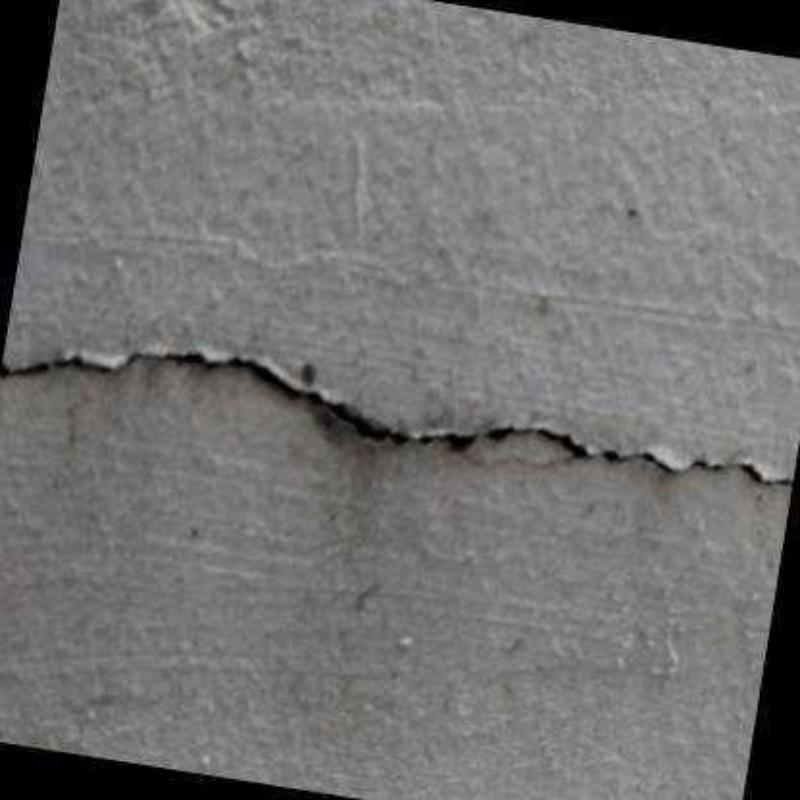pothole: (1, 354, 793, 489)
